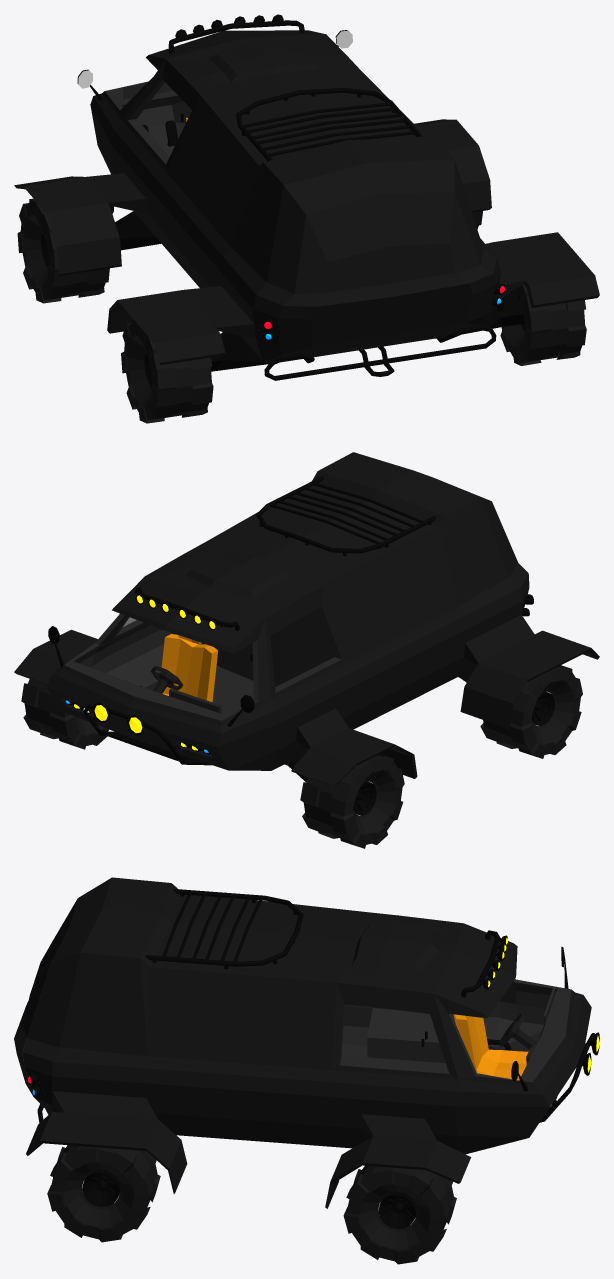
File: vehicle.glb
3 renders of one model, top to bottom at view 1: azimuth 30°, elevation 25°; view 2: azimuth 150°, elevation 25°; view 3: azimuth 270°, elevation 25°, orthographic. The views are drawn at different scales.
Visible parts, largest first — view 1: body_35, fenders_41, leftbackdoor_38, rightbackdoor_49, wheel_lr_31, leftdoor_37, roof_rack_19, wheel_rr_33, wheel_fl_21, cabin_0, rear_bumper_18, suspension_dynamic_rl_45 (+5 smaller); view 2: body_35, fenders_41, cabin_0, leftdoor_37, wheel_fl_21, wheel_lr_31, roof_rack_19, wheel_fr_23, seatleft_1, rightdoor_48, front_bumper_17, disk_fl_22 (+2 smaller); view 3: body_35, rightdoor_48, cabin_0, fenders_41, wheel_fr_23, wheel_rr_33, roof_rack_19, seatleft_1, rightbackdoor_49, disk_fr_24, disk_rr_34, leftdoor_37 (+3 smaller).
Boxes of the visible parts, <box> form: body_35: <box>86,30,524,362</box>; fenders_41: <box>14,119,599,364</box>; leftbackdoor_38: <box>278,194,393,354</box>; rightbackdoor_49: <box>378,192,495,343</box>; wheel_lr_31: <box>121,319,213,423</box>; leftdoor_37: <box>111,59,215,211</box>; roof_rack_19: <box>236,88,422,161</box>; wheel_rr_33: <box>500,284,586,365</box>; wheel_fl_21: <box>17,198,109,303</box>; cabin_0: <box>105,38,317,156</box>; rear_bumper_18: <box>264,325,496,380</box>; suspension_dynamic_rl_45: <box>211,332,268,371</box>; body_35: <box>47,452,534,770</box>; fenders_41: <box>14,629,599,786</box>; cabin_0: <box>64,608,334,720</box>; leftdoor_37: <box>259,582,356,736</box>; wheel_fl_21: <box>300,754,404,848</box>; wheel_lr_31: <box>480,665,582,758</box>; roof_rack_19: <box>256,476,436,556</box>; wheel_fr_23: <box>21,679,109,749</box>; seatleft_1: <box>161,634,252,702</box>; rightdoor_48: <box>101,543,211,672</box>; front_bumper_17: <box>83,704,211,765</box>; disk_fl_22: <box>353,781,376,815</box>; body_35: <box>22,877,591,1154</box>; rightdoor_48: <box>329,973,458,1121</box>; cabin_0: <box>341,973,571,1082</box>; fenders_41: <box>26,1112,471,1208</box>; wheel_fr_23: <box>343,1165,456,1264</box>; wheel_rr_33: <box>47,1145,160,1242</box>; roof_rack_19: <box>145,889,303,969</box>; seatleft_1: <box>453,1014,528,1080</box>; rightbackdoor_49: <box>14,926,69,1107</box>; disk_fr_24: <box>378,1194,416,1229</box>; disk_rr_34: <box>82,1172,120,1207</box>; leftdoor_37: <box>366,912,499,1017</box>.
Size of the model in its own units: 7.47 by 3.68 by 8.26.
